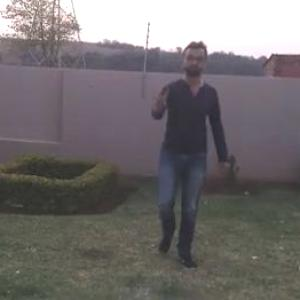takeoff-hand: (140, 86, 172, 120)
